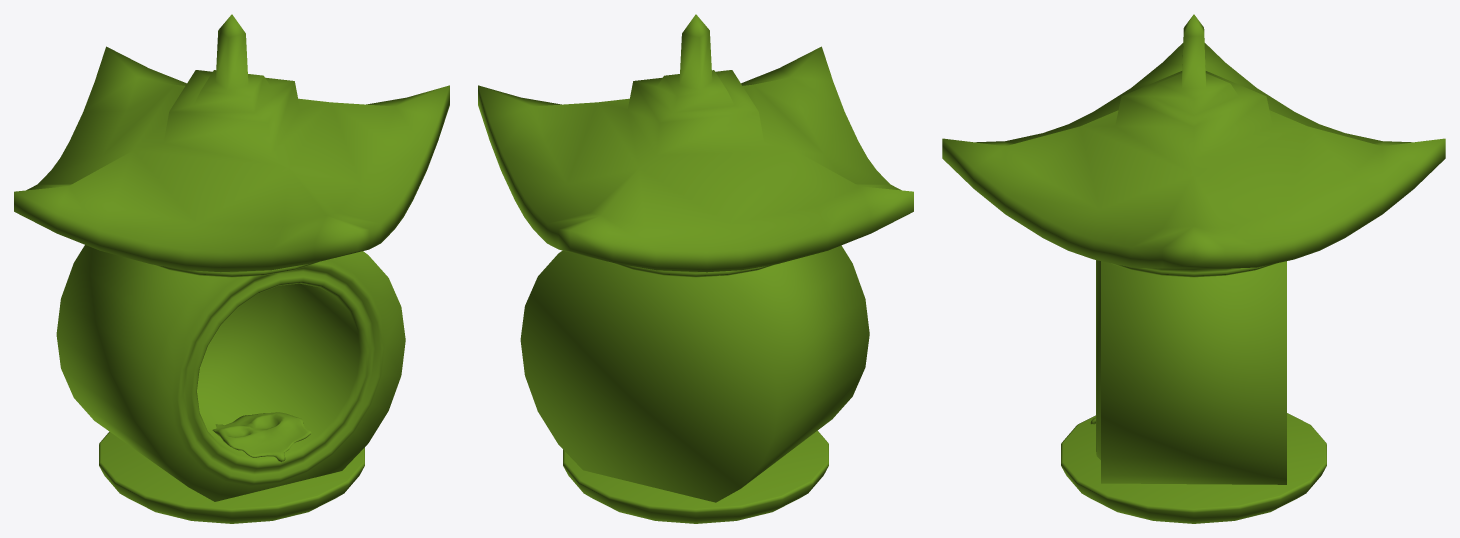
File: candle_stone.fbx
3 renders of one model, left to right at view 1: azimuth 30°, elevation 25°; view 2: azimuth 150°, elevation 25°; view 3: azimuth 270°, elevation 25°, orthographic.
Visible parts, largest first — view 1: stonecandle1_low, candle3_low; view 2: stonecandle1_low; view 3: stonecandle1_low.
Part boxes in pixels (bbox=[...]): stonecandle1_low: bbox=[14, 14, 449, 523]; candle3_low: bbox=[212, 412, 311, 462]; stonecandle1_low: bbox=[478, 14, 913, 523]; stonecandle1_low: bbox=[942, 14, 1445, 523].
Bounding box in the file's own units: 6314 × 6314 × 6557.
